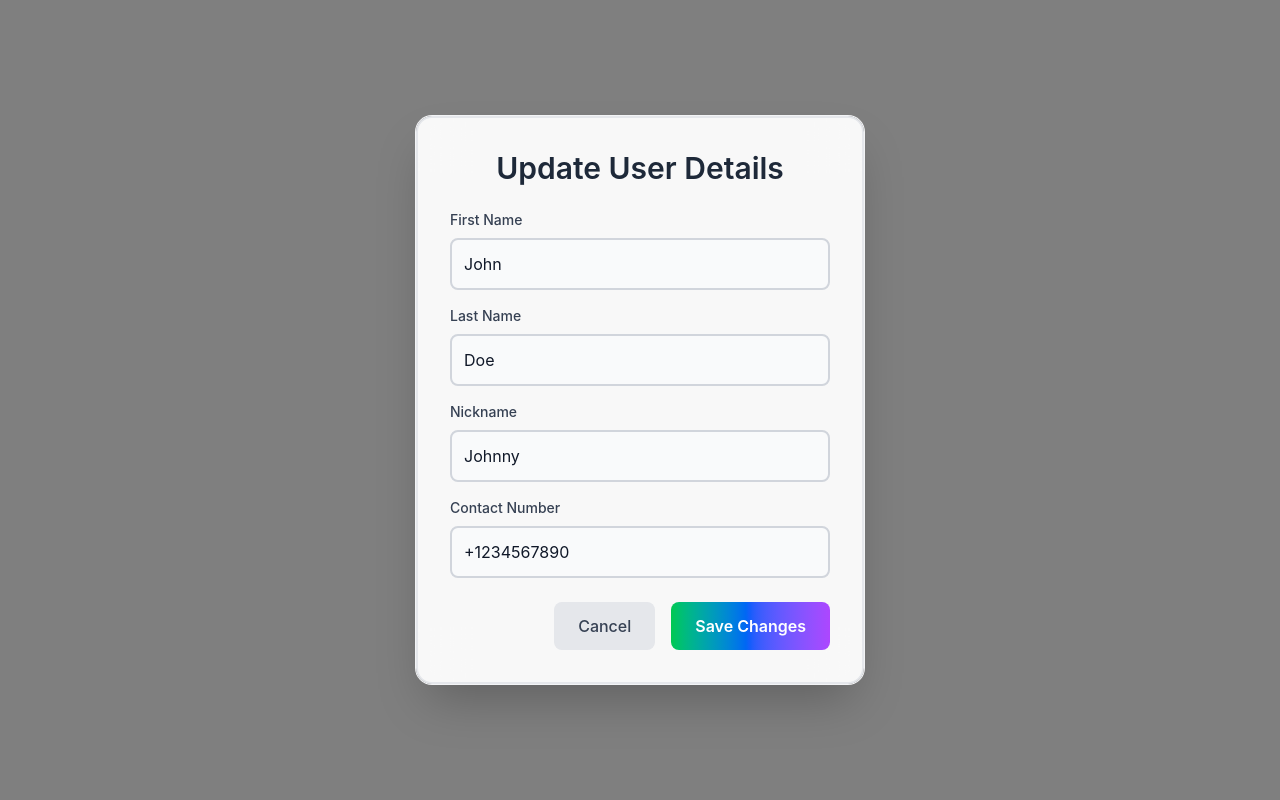
UpdateUserModal Component › Form Validation › should show validation errors when submitting with empty Nickname
Note: Clear the nickname field
Clear the field with placeholder "Enter your nickname" below "Nickname" at [640, 456], box [450, 430, 830, 482]
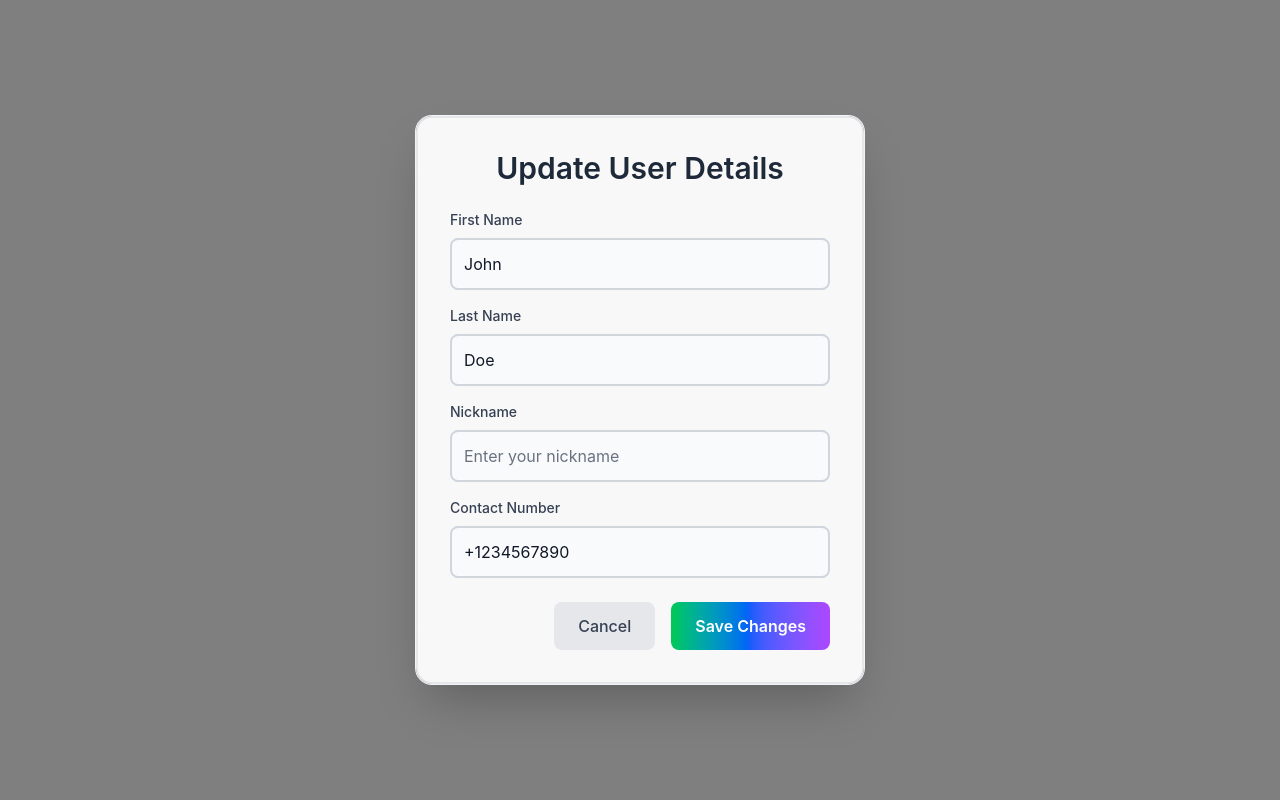
Note: Submit the form
Click the button "Save Changes" at [751, 626], box [671, 602, 830, 650]
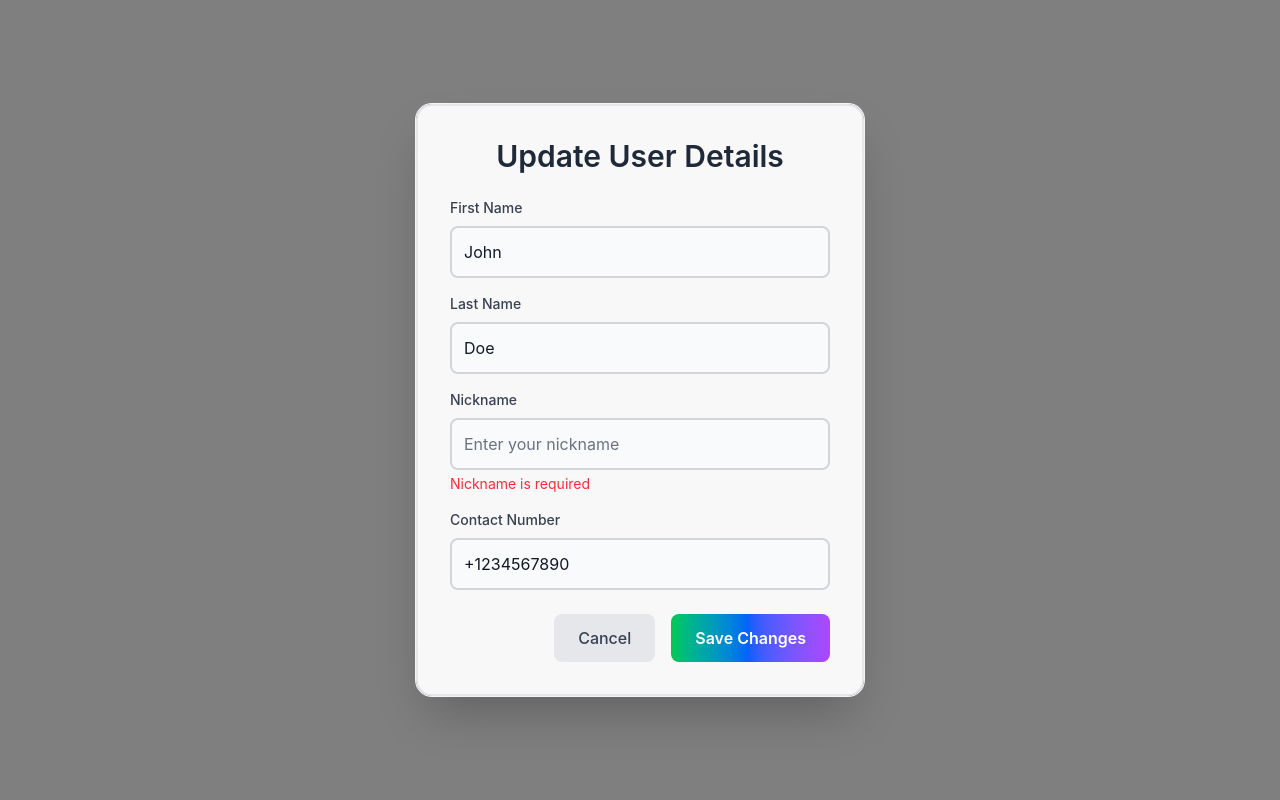
Expected: the text "Nickname is required" is shown, [450, 475, 590, 492]
